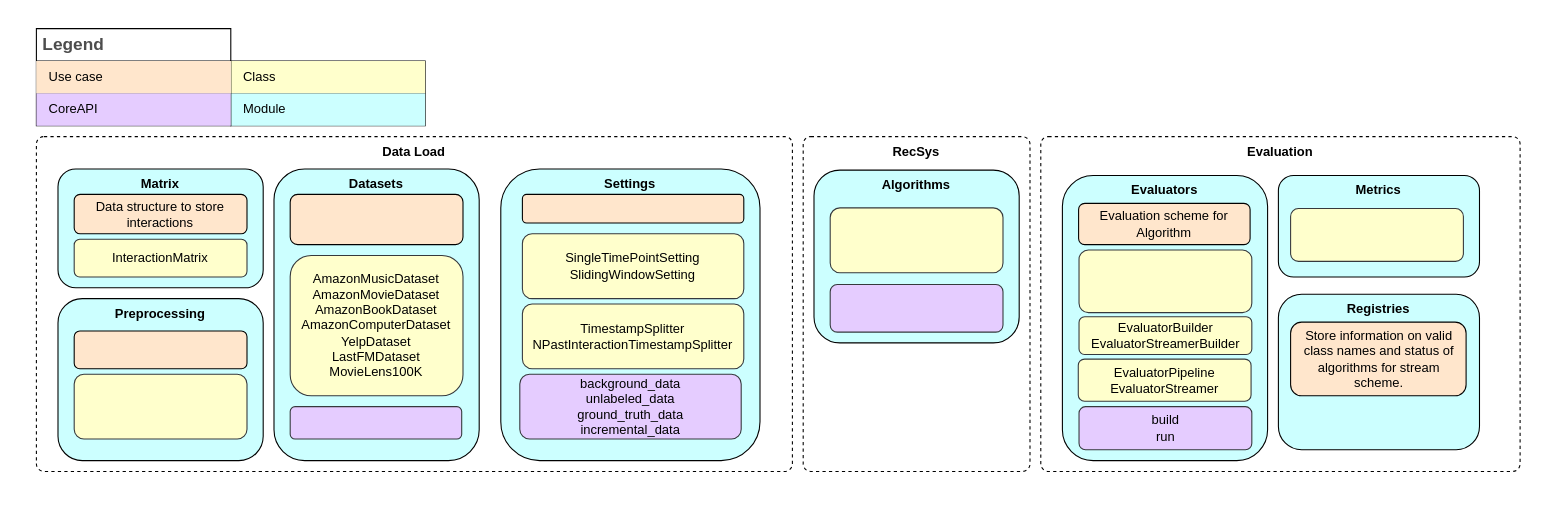
Some shapes in this 1560 by 512 pixel diagram are drawn without their labels. The shapes that lost their labels are listed below. From the top down, each one's centre as x and y in pixels, then its label:
the point at 376,219: Data set for user to load which will be used for training and evaluation
the point at 632,208: Data split setting on Dataset
the point at 916,240: ItemKNN ItemKNNRolling ItemKNNStatic ItemKNNIncremental
the point at 1376,234: Precision Recall
the point at 1165,281: MetricAccumulator MacroMetricAccumulator MicroMetricAccumulator
the point at 916,308: fit predict
the point at 160,349: Mapping user, item ID into internal ID
the point at 160,406: MinItemPerUser MinUsersPerItem
the point at 375,422: load add_filter
